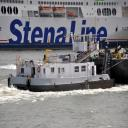tugboat: (8, 32, 117, 94)
